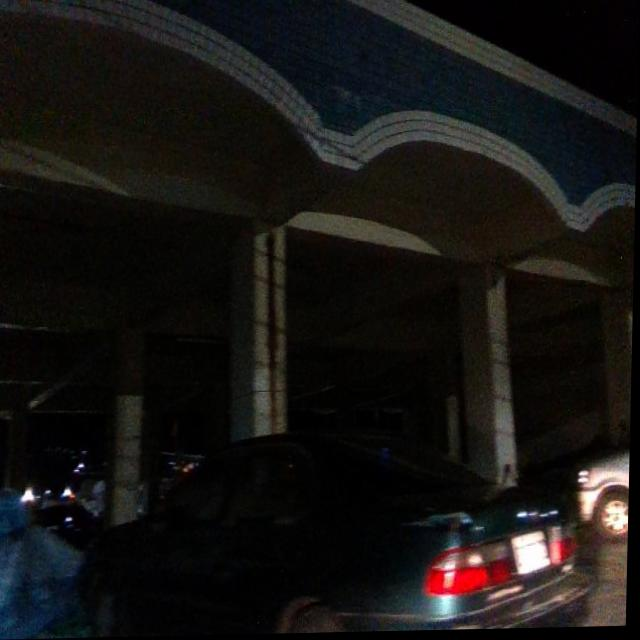pollute: (0, 483, 98, 640)
